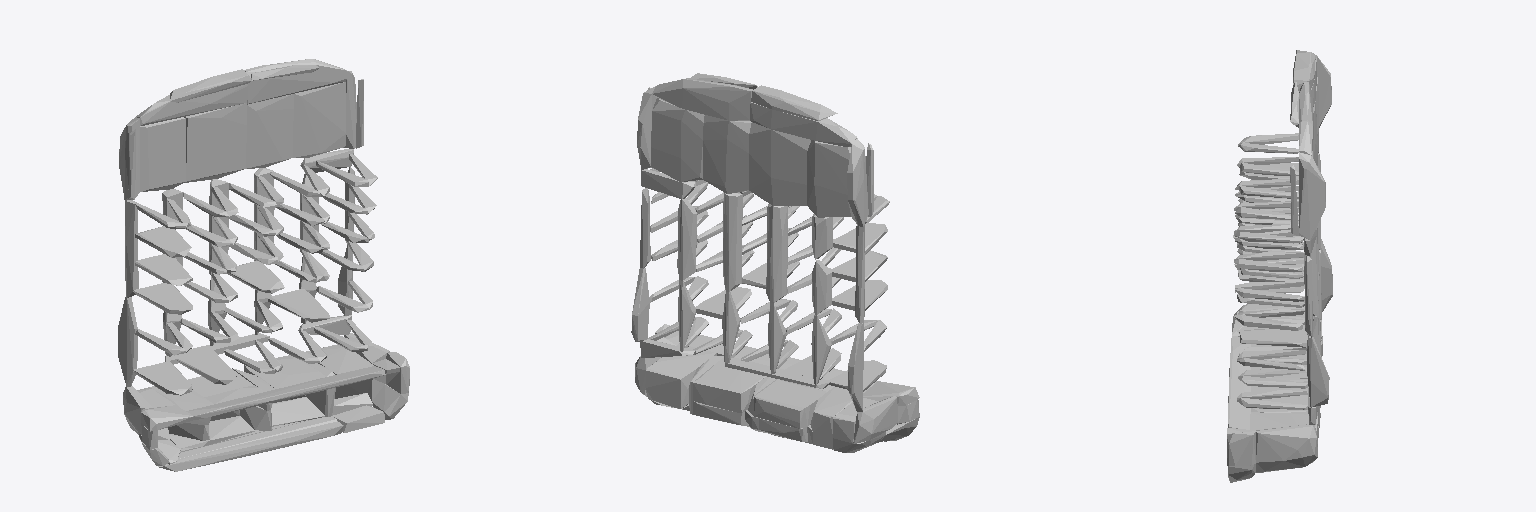
File: model_AlWaistI3nR_vhacd.obj
3 renders of one model, left to right at view 1: azimuth 30°, elevation 25°; view 2: azimuth 150°, elevation 25°; view 3: azimuth 270°, elevation 25°, orthographic.
Parts seen in each view (by area): view 1: convex_54, convex_60, convex_53, convex_59, convex_61, convex_25, convex_24, convex_55, convex_64, convex_1, convex_50, convex_57 (+28 smaller); view 2: convex_54, convex_60, convex_59, convex_53, convex_61, convex_50, convex_64, convex_108, convex_55, convex_68, convex_43, convex_57 (+28 smaller); view 3: convex_7, convex_21, convex_25, convex_13, convex_3, convex_66, convex_61, convex_64, convex_57, convex_18, convex_75, convex_1 (+3 smaller).
Boxes of the visible parts, x1,y1,x2,y2 form: convex_54: [184, 103, 246, 182]; convex_60: [293, 82, 345, 157]; convex_53: [140, 117, 185, 191]; convex_59: [246, 94, 293, 168]; convex_61: [244, 59, 346, 104]; convex_25: [186, 366, 385, 419]; convex_24: [158, 421, 343, 471]; convex_55: [136, 84, 247, 125]; convex_64: [306, 344, 373, 398]; convex_1: [118, 297, 137, 386]; convex_50: [244, 355, 325, 388]; convex_57: [170, 69, 251, 102]; convex_54: [749, 122, 810, 205]; convex_60: [651, 98, 704, 181]; convex_59: [703, 115, 751, 193]; convex_53: [807, 140, 850, 217]; convex_61: [652, 78, 752, 120]; convex_50: [693, 357, 769, 412]; convex_64: [645, 344, 716, 408]; convex_108: [754, 380, 826, 428]; convex_55: [750, 102, 856, 146]; convex_68: [766, 204, 787, 303]; convex_43: [723, 193, 742, 291]; convex_57: [751, 85, 837, 120]; convex_7: [1256, 424, 1317, 472]; convex_21: [1299, 152, 1325, 240]; convex_25: [1228, 336, 1250, 429]; convex_13: [1307, 336, 1329, 407]; convex_3: [1239, 327, 1306, 347]; convex_66: [1227, 431, 1255, 466]; convex_61: [1299, 82, 1313, 155]; convex_64: [1250, 412, 1317, 462]; convex_57: [1293, 50, 1315, 91]; convex_18: [1317, 56, 1331, 127]; convex_75: [1233, 315, 1302, 330]; convex_1: [1321, 239, 1332, 311].
Bounding box in the file's own units: 0.3408 × 0.4443 × 0.1224.